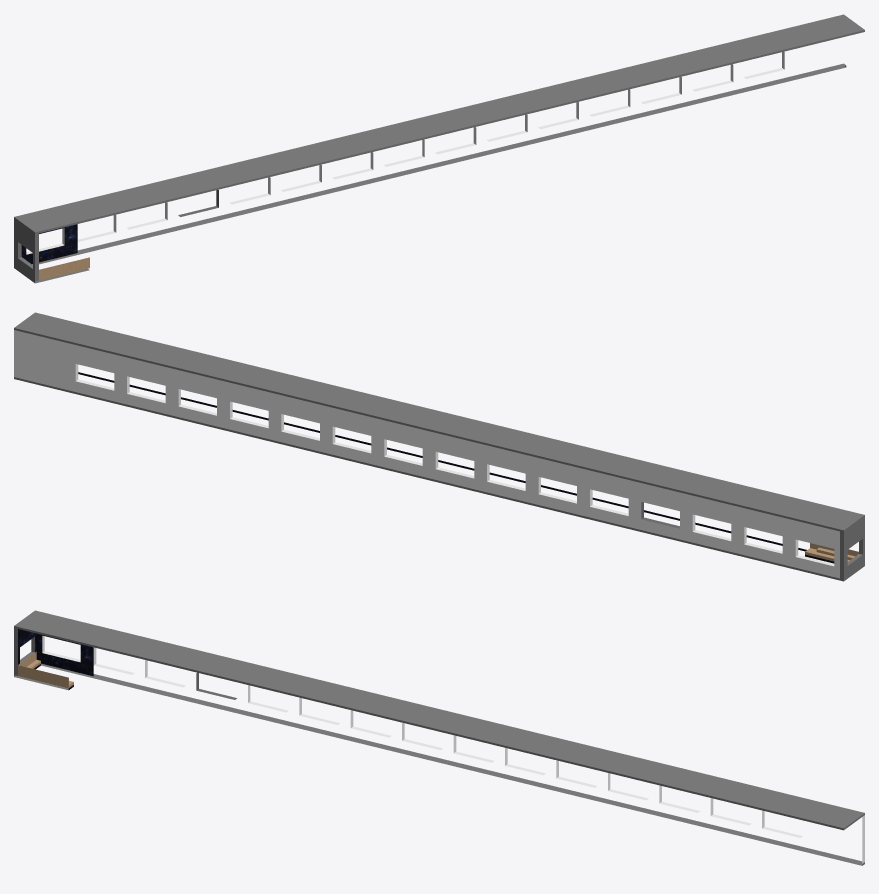
File: design1.glb
3 views of the same model, one above another, from view 1: azimuth 30°, elevation 25°; view 2: azimuth 150°, elevation 25°; view 3: azimuth 330°, elevation 25° (orthographic).
Visible parts, largest first — view 1: object 2, object 6, Nort ele wall.dwg, Eastwall ele.dwg; view 2: Nort ele wall.dwg, object 2, object 6, Eastwall ele.dwg; view 3: object 2, object 6, Nort ele wall.dwg, Eastwall ele.dwg.
Boxes of the visible parts, x1=… form: object 2: x1=14, y1=14, x2=864, y2=234; object 6: x1=14, y1=63, x2=846, y2=283; Nort ele wall.dwg: x1=21, y1=52, x2=784, y2=264; Eastwall ele.dwg: x1=14, y1=219, x2=38, y2=281; Nort ele wall.dwg: x1=14, y1=330, x2=839, y2=578; object 2: x1=14, y1=312, x2=864, y2=532; object 6: x1=14, y1=372, x2=864, y2=581; Eastwall ele.dwg: x1=840, y1=517, x2=864, y2=579; object 2: x1=14, y1=610, x2=864, y2=830; object 6: x1=14, y1=663, x2=864, y2=865; Nort ele wall.dwg: x1=36, y1=633, x2=864, y2=863; Eastwall ele.dwg: x1=14, y1=628, x2=36, y2=675.
Bounding box in the file's own units: 64.55 × 3.8 × 2.85.
6 materials, 3 textured.
